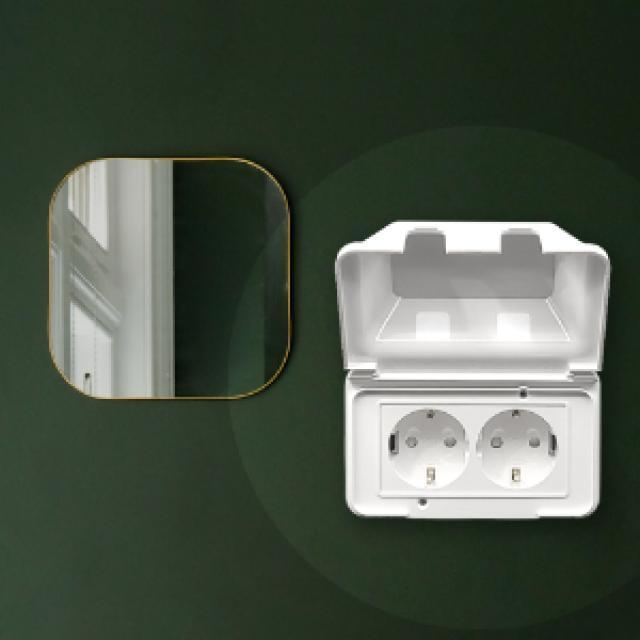typeb: (316, 208, 629, 555)
